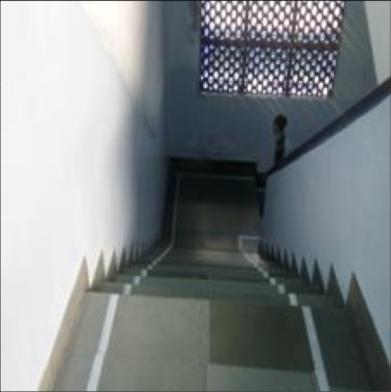Animal: (83, 216, 335, 334)
